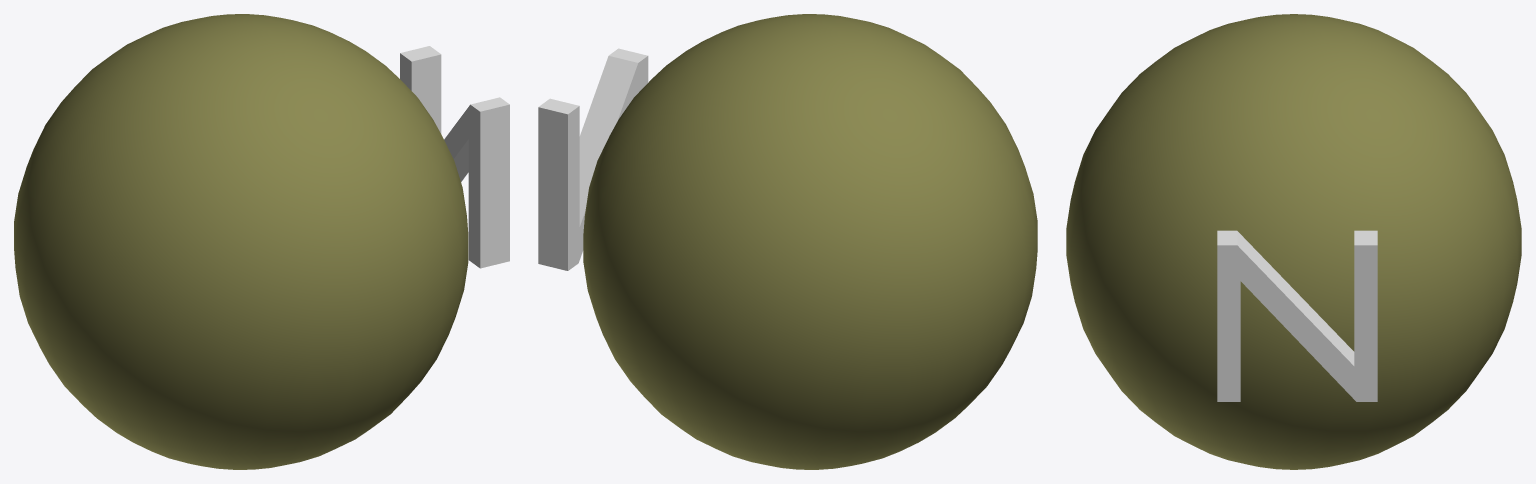
3 renders of one model, left to right at view 1: azimuth 30°, elevation 25°; view 2: azimuth 150°, elevation 25°; view 3: azimuth 270°, elevation 25°, orthographic.
Visible parts, largest first — view 1: テキスト; view 2: テキスト; view 3: テキスト.
Part boxes in pixels (x1,y1,x2,y2): テキスト: [14, 14, 509, 469]; テキスト: [538, 14, 1037, 469]; テキスト: [1066, 14, 1521, 469].
Bounding box in the file's own units: 216 × 200 × 200.
